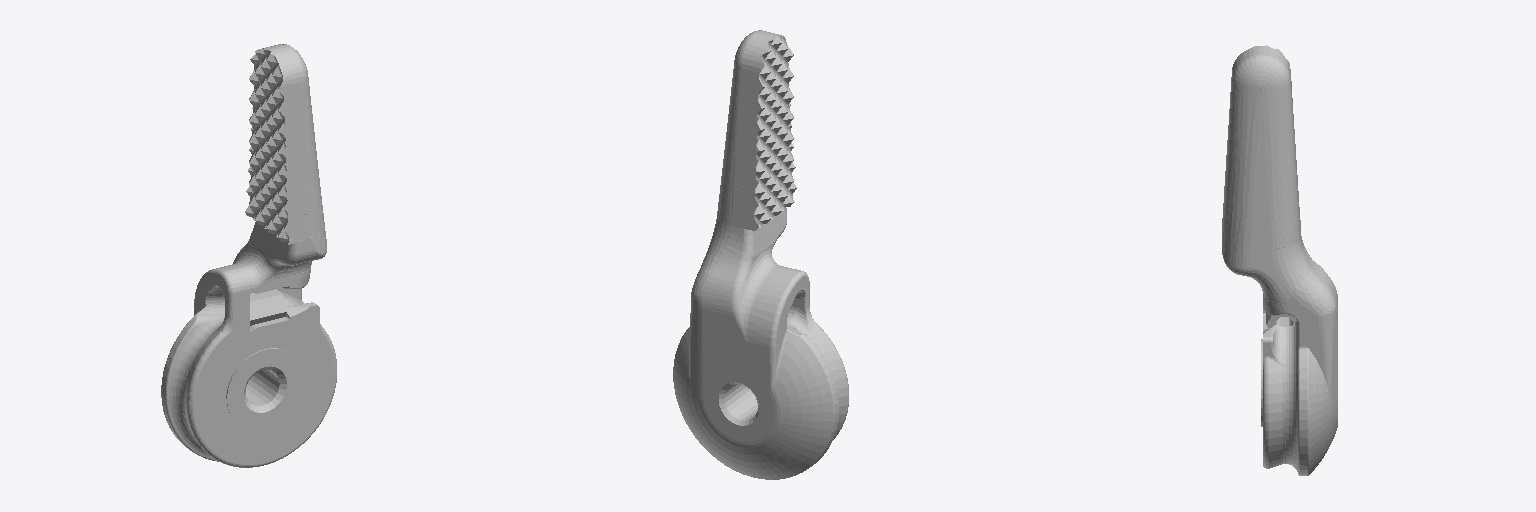
Rendered from tool gripper right link_001.OBJ.
3 renders of one model, left to right at view 1: azimuth 30°, elevation 25°; view 2: azimuth 150°, elevation 25°; view 3: azimuth 270°, elevation 25°, orthographic.
Parts seen in each view (by area): view 1: /ambf/env/psm2/tool_gripper_right_link_001_tool_gripper_right_li; view 2: /ambf/env/psm2/tool_gripper_right_link_001_tool_gripper_right_li; view 3: /ambf/env/psm2/tool_gripper_right_link_001_tool_gripper_right_li.
Boxes of the visible parts, box(x1,y1,x2,y2) form: /ambf/env/psm2/tool_gripper_right_link_001_tool_gripper_right_li: box(161, 44, 336, 467); /ambf/env/psm2/tool_gripper_right_link_001_tool_gripper_right_li: box(673, 30, 848, 479); /ambf/env/psm2/tool_gripper_right_link_001_tool_gripper_right_li: box(1222, 45, 1337, 475).
Size of the model in its own units: 0.0048 by 0.0121 by 0.003.